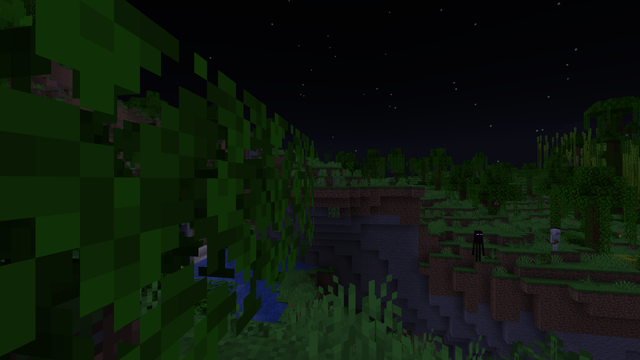endermens: (473, 229, 482, 261)
slimes: (332, 175, 343, 186)
squelettes: (549, 228, 561, 251)
